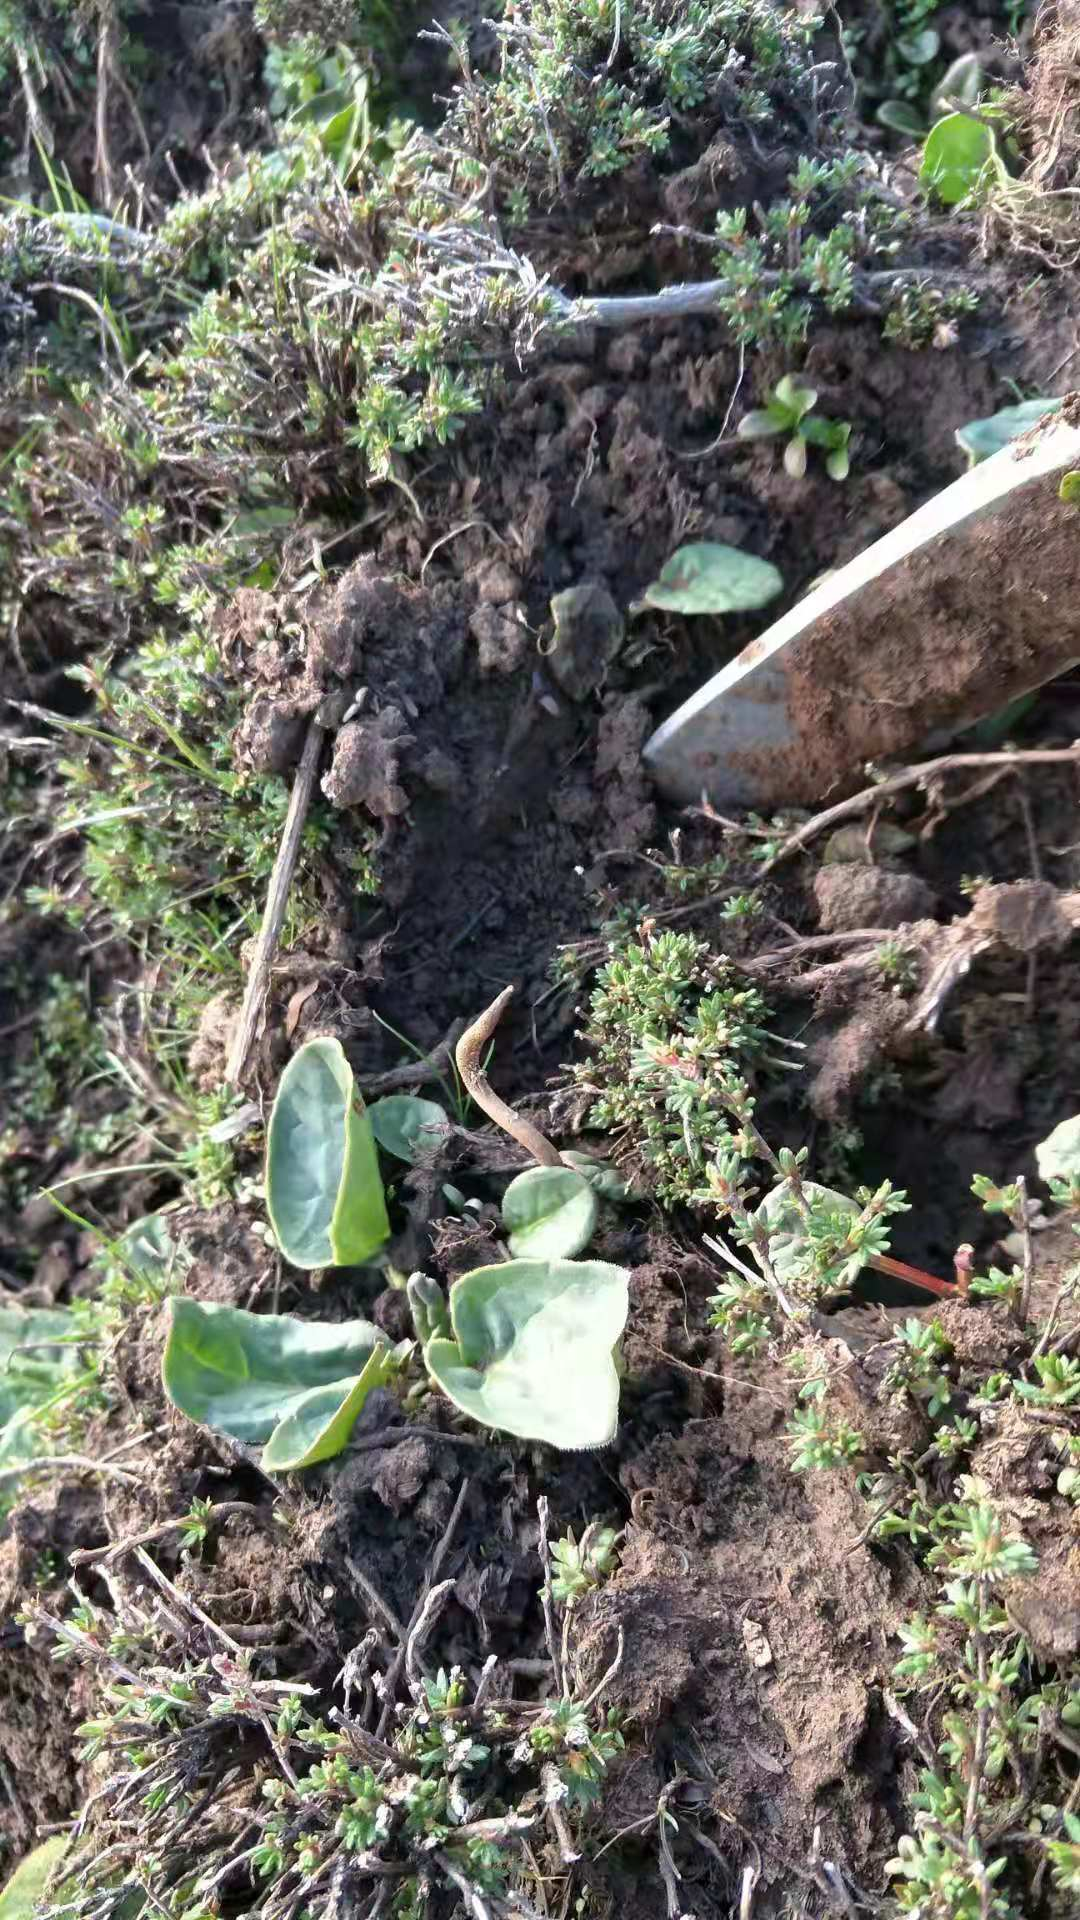Chongcao: (450, 981, 566, 1170)
